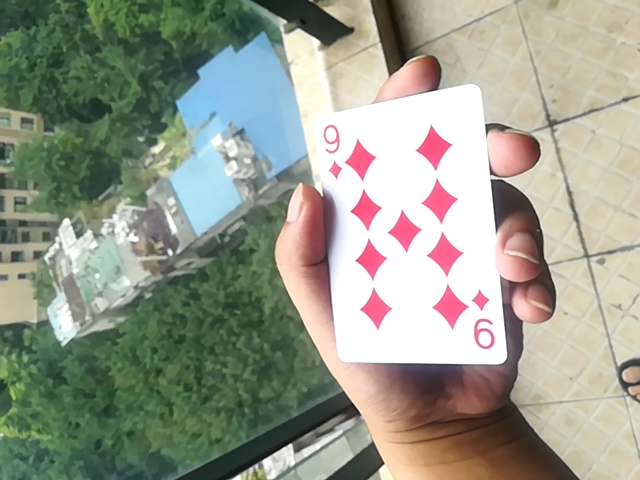fk 9: (313, 80, 509, 367)
